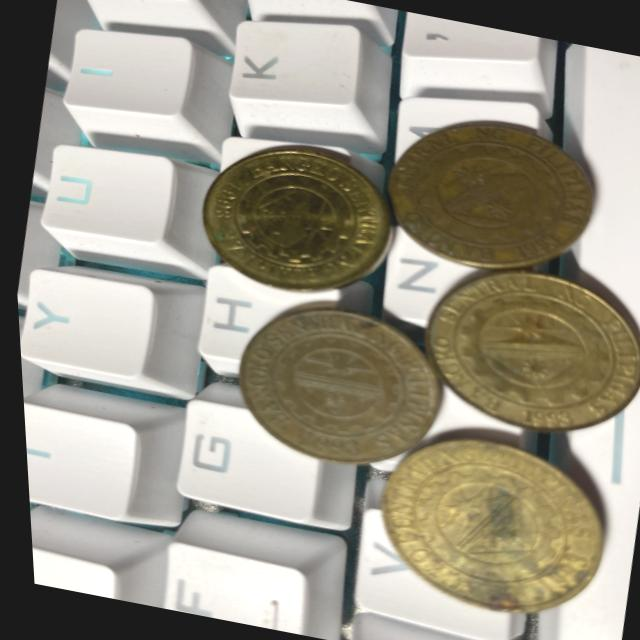25Cent_Old_Back: (376, 432, 609, 628), (410, 254, 640, 446), (221, 299, 439, 481), (376, 102, 599, 277), (194, 136, 401, 296)
